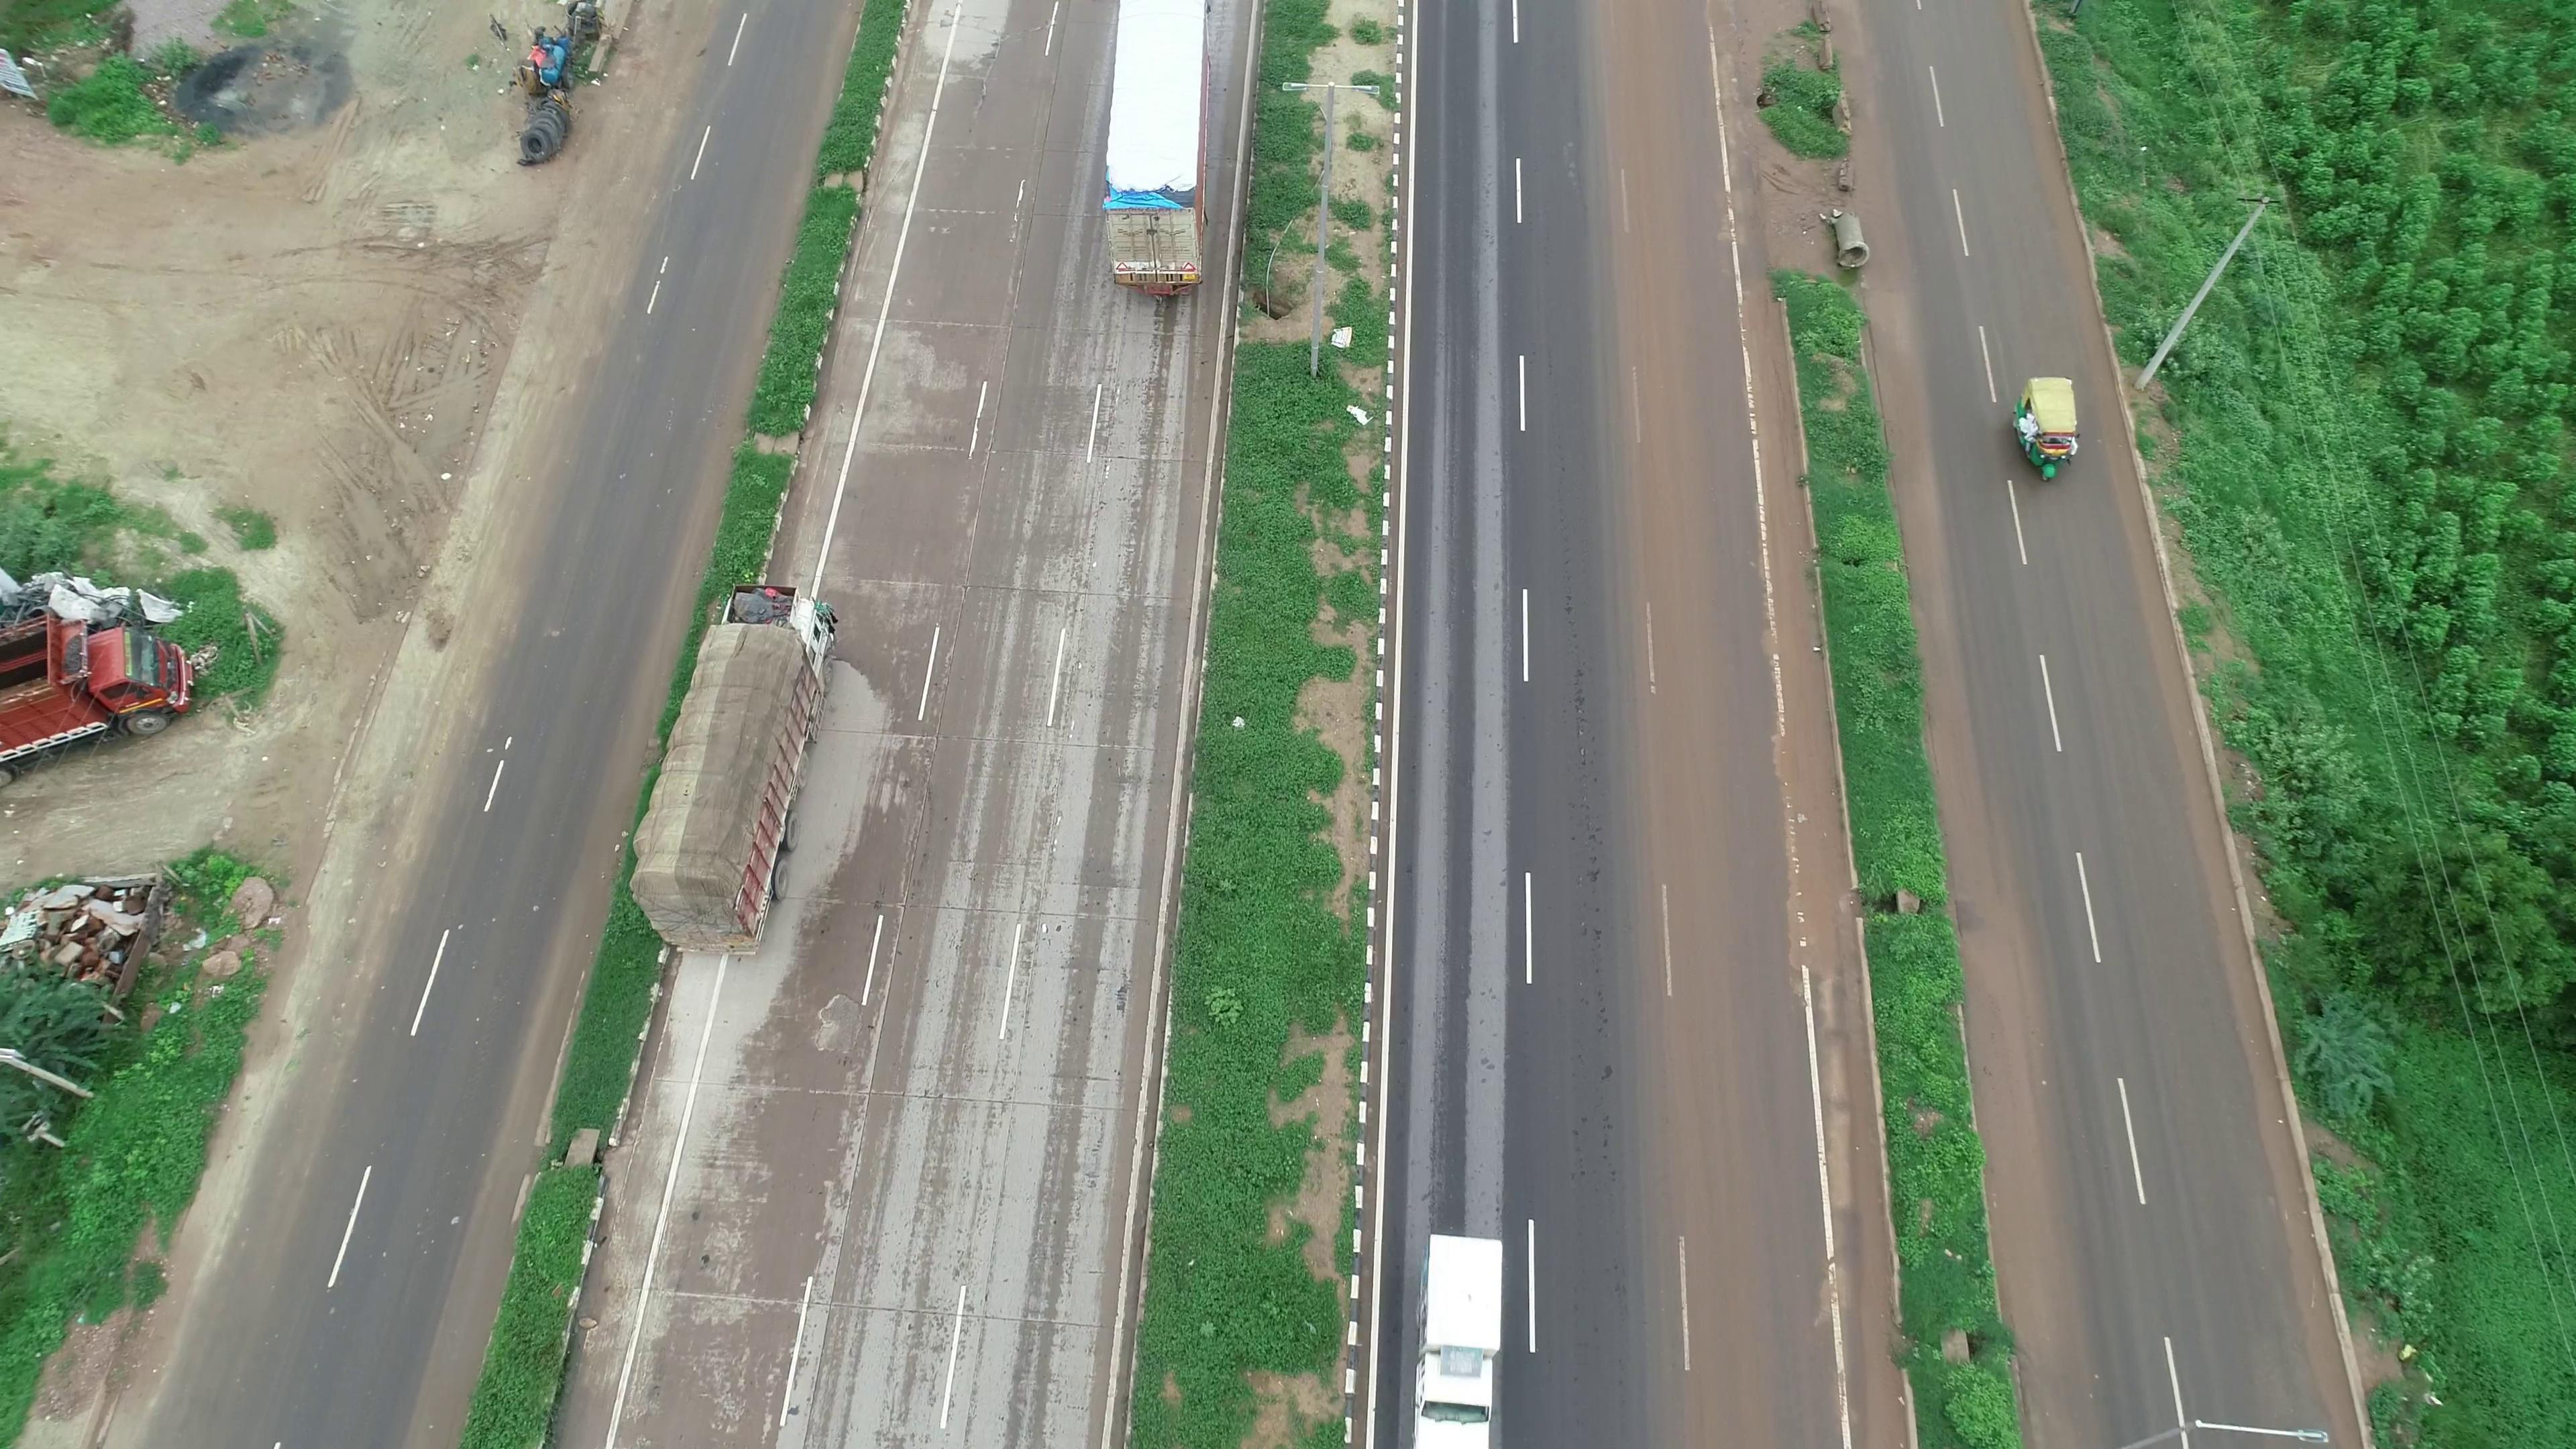Muddy_road: (1644, 810, 1854, 1440), (1626, 340, 1831, 801), (1599, 19, 1736, 343)
